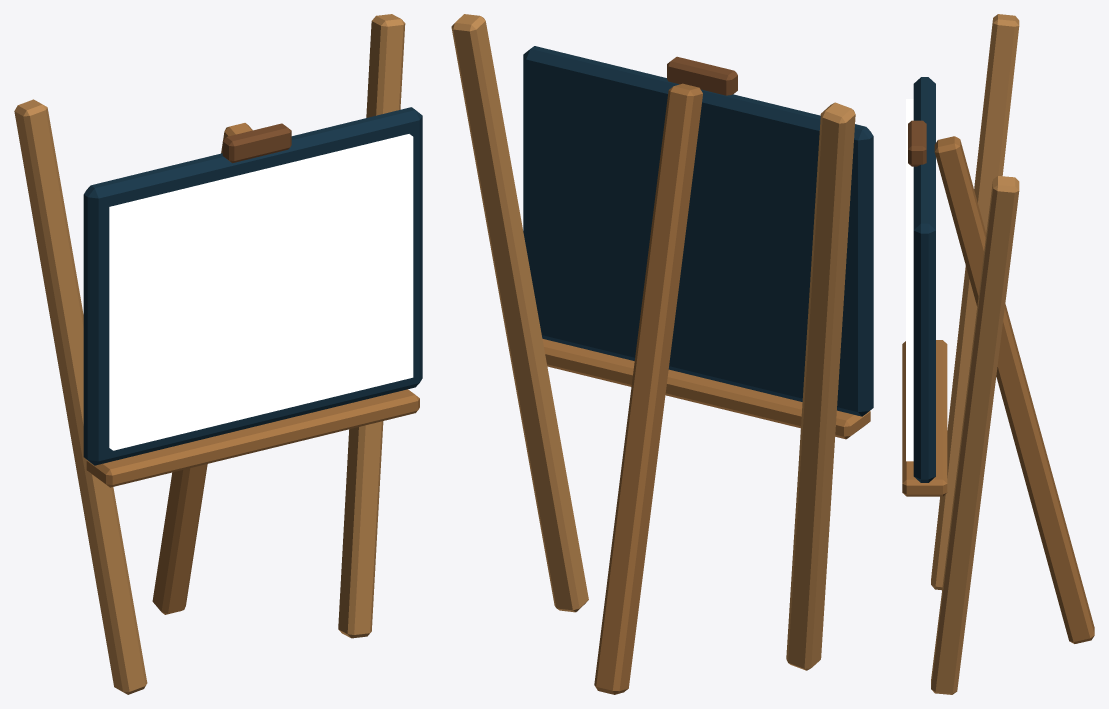
File: easel_board.glb
3 renders of one model, left to right at view 1: azimuth 30°, elevation 25°; view 2: azimuth 150°, elevation 25°; view 3: azimuth 270°, elevation 25°, orthographic. The views are drawn at different scales.
Visible parts, largest first — view 1: easel_board; view 2: easel_board; view 3: easel_board.
Boxes of the visible parts, <box> form: easel_board: <box>14,14,422,694</box>; easel_board: <box>451,14,873,694</box>; easel_board: <box>902,14,1094,694</box>.
Bounding box in the file's own units: 1.1 × 1.59 × 0.5111.
